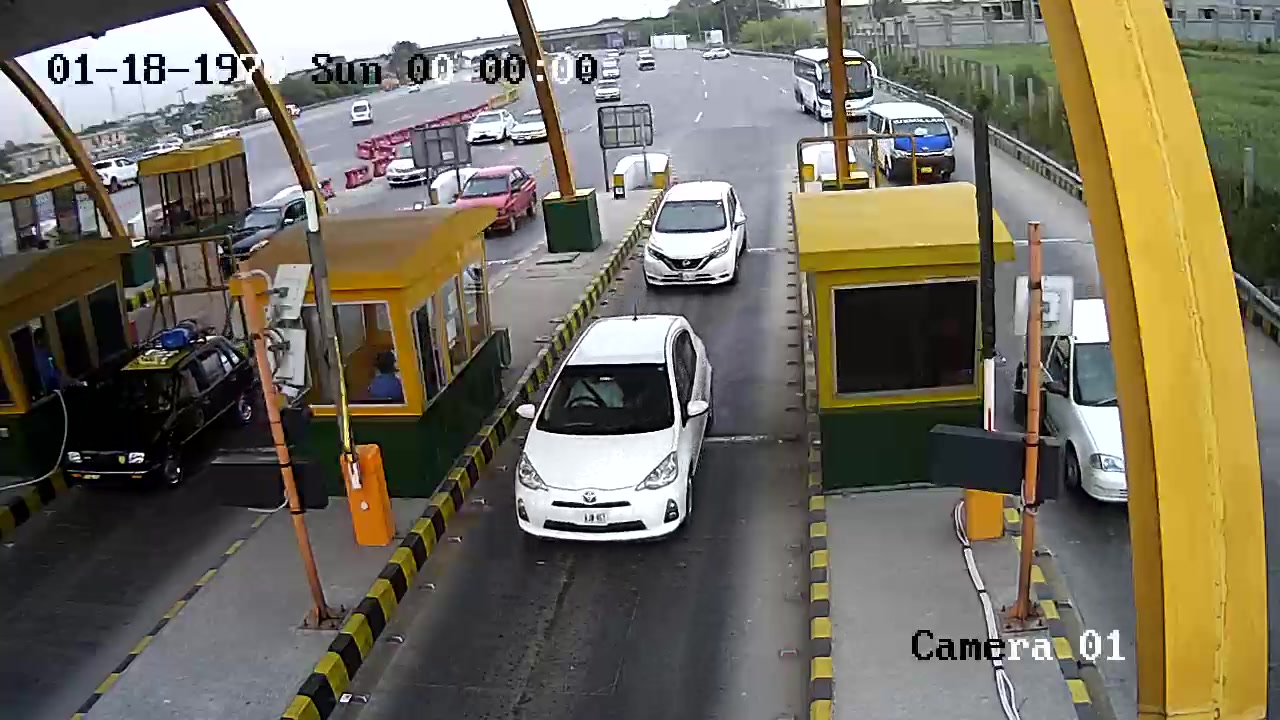F1: (510, 309, 720, 566)
